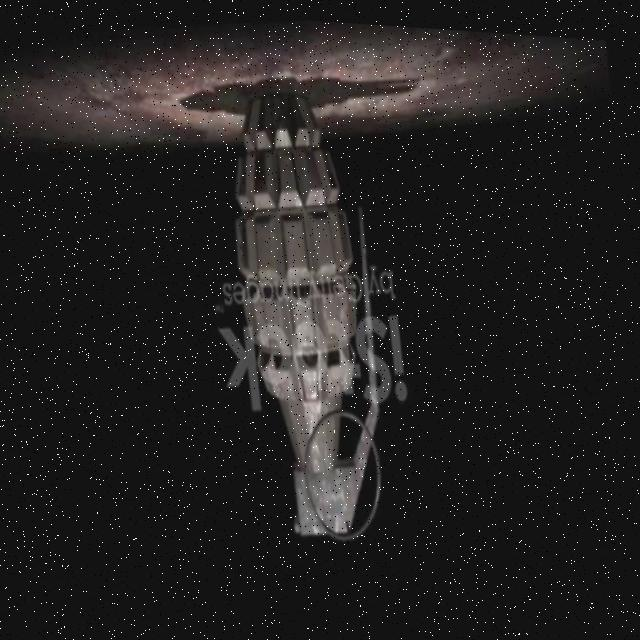grenade: (207, 77, 415, 559)
